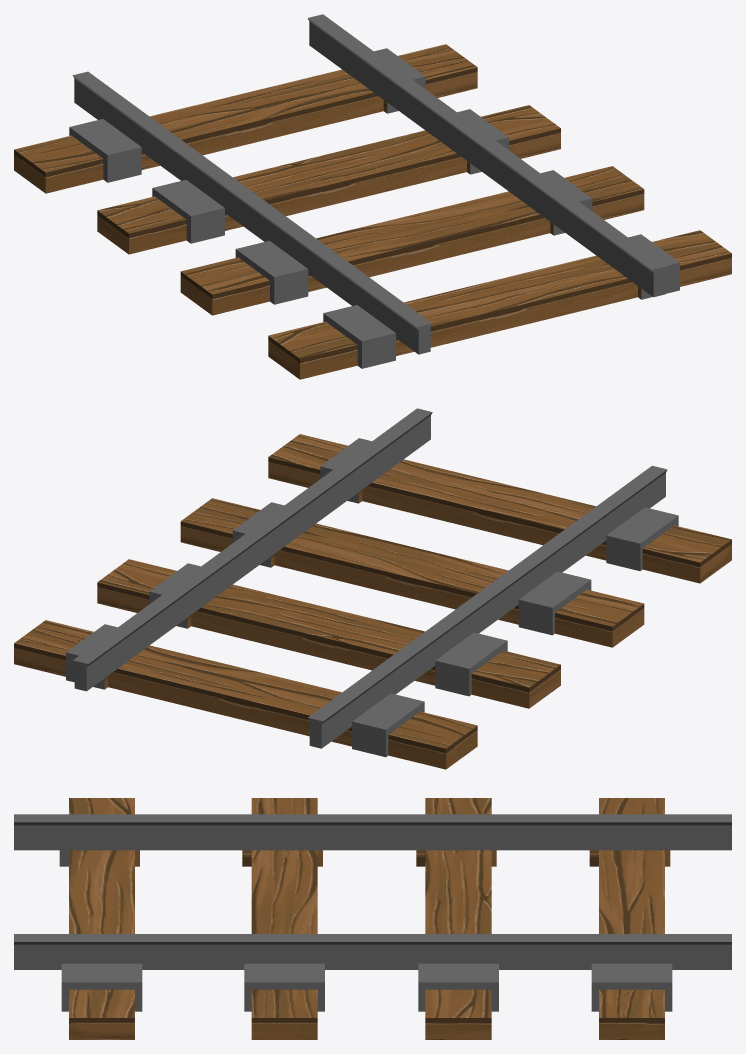
Rendered from rail.fbx.
The picture shows the model from 3 angles, top to bottom: view 1: azimuth 30°, elevation 25°; view 2: azimuth 150°, elevation 25°; view 3: azimuth 270°, elevation 25°; orthographic projection. The views are drawn at different scales.
Parts seen in each view (by area): view 1: Cube, Cube.001; view 2: Cube, Cube.001; view 3: Cube, Cube.001.
Part boxes in pixels (box(x1,y1,x2,y2)): Cube: box(14, 44, 731, 379); Cube.001: box(72, 14, 667, 354); Cube: box(14, 434, 731, 769); Cube.001: box(73, 408, 667, 748); Cube: box(59, 798, 672, 1039); Cube.001: box(14, 814, 731, 969).
Size of the model in its own units: 240 by 26.27 by 331.
